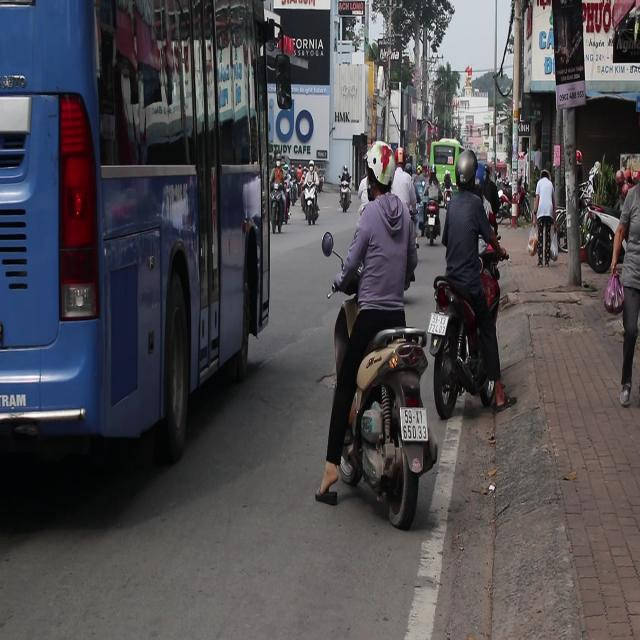bus: (0, 0, 279, 506), (428, 139, 466, 188)
motorbike: (320, 328, 442, 546), (421, 275, 529, 452), (582, 201, 622, 271), (419, 192, 444, 248), (495, 201, 514, 233), (309, 190, 321, 224), (338, 184, 351, 213), (271, 204, 280, 239)
